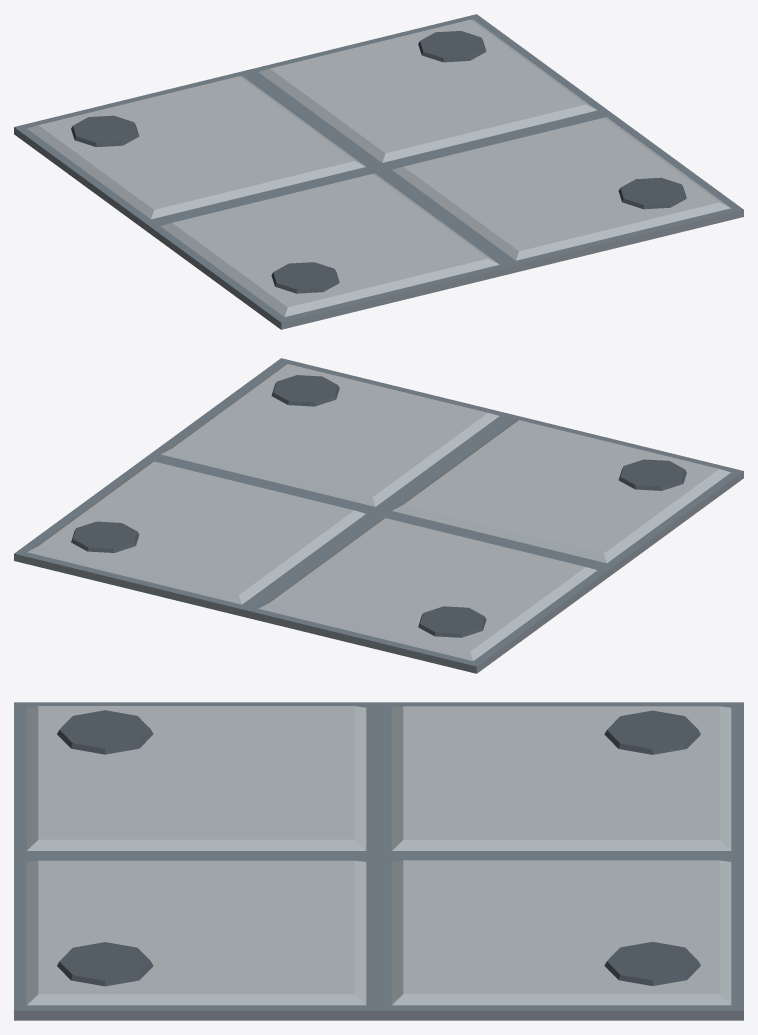
The model's file is precast-paving-tile-967791.glb.
The picture shows the model from 3 angles, top to bottom: view 1: azimuth 30°, elevation 25°; view 2: azimuth 150°, elevation 25°; view 3: azimuth 270°, elevation 25°; orthographic projection. The views are drawn at different scales.
Visible parts, largest first — view 1: paving-slab; view 2: paving-slab; view 3: paving-slab.
Part boxes in pixels (x1,y1,x2,y2): paving-slab: [14, 14, 743, 329]; paving-slab: [14, 358, 743, 673]; paving-slab: [14, 702, 743, 1020].
Size of the model in its own units: 2 by 0.064 by 2.
